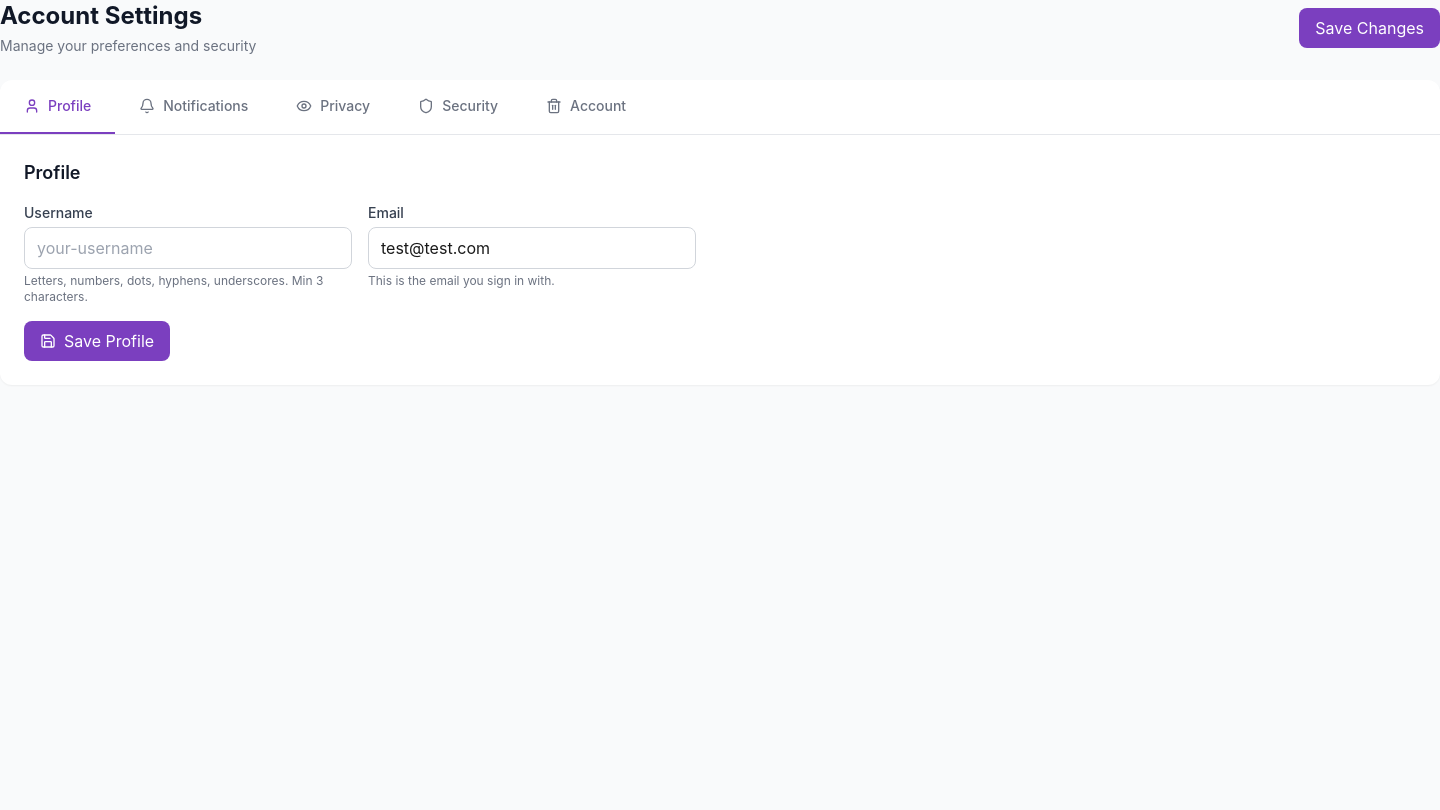
Test: Settings › closes delete modal when Cancel is clicked
The width and height of the screenshot is (1440, 810).
What coordinates should you click on to do the following:
click the button "Account"
I would click on:
 (586, 107)
Its box is [522,80,650,134].
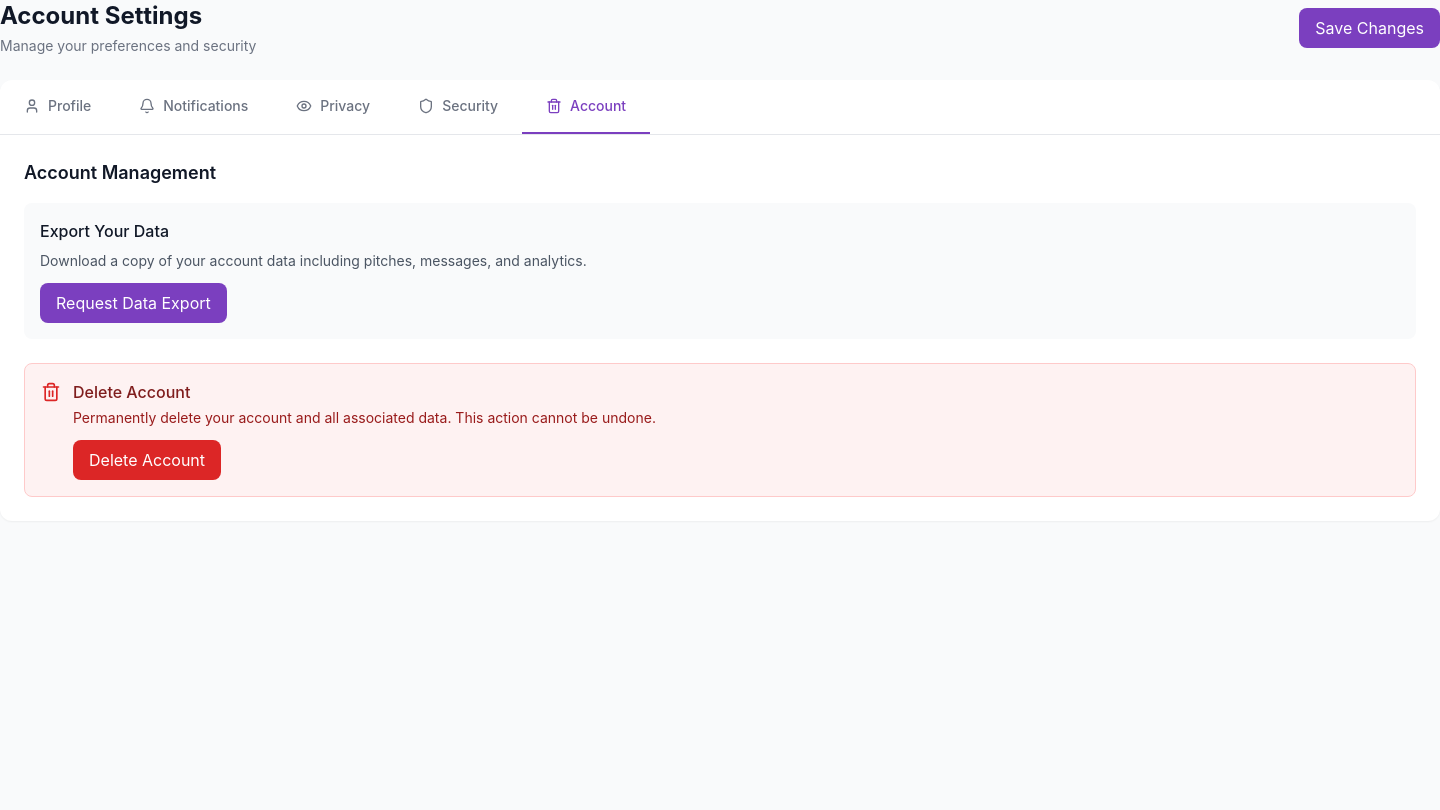
What coordinates should you click on to do the following:
click the button "Delete Account"
I would click on:
 (147, 460)
Its box is [73,440,221,480].
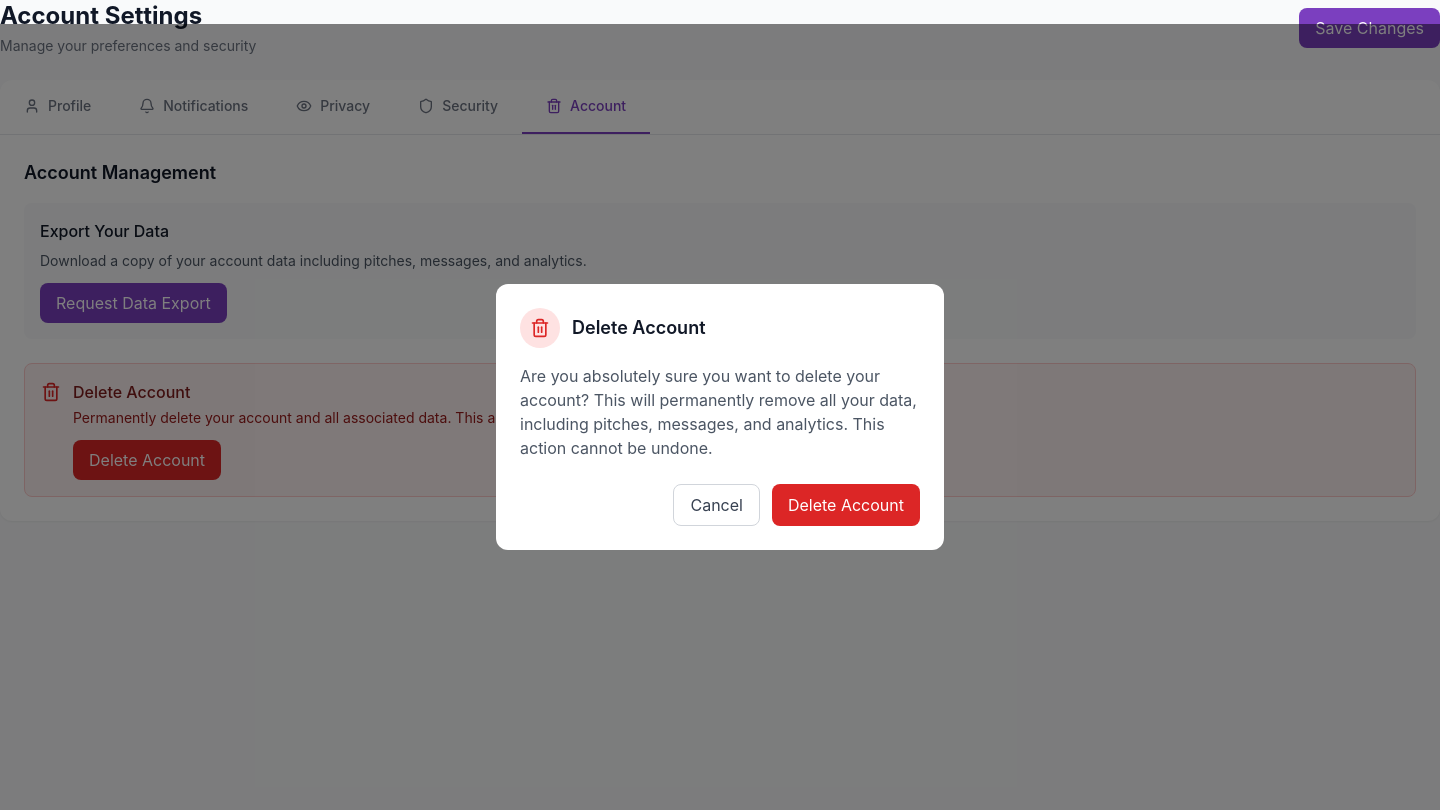
Result: the text "Are you absolutely sure" is shown at [520,366,917,458]
What coordinates should you click on to do the following:
click the button "Cancel"
I would click on:
 (717, 505)
Its box is [674,484,760,526].
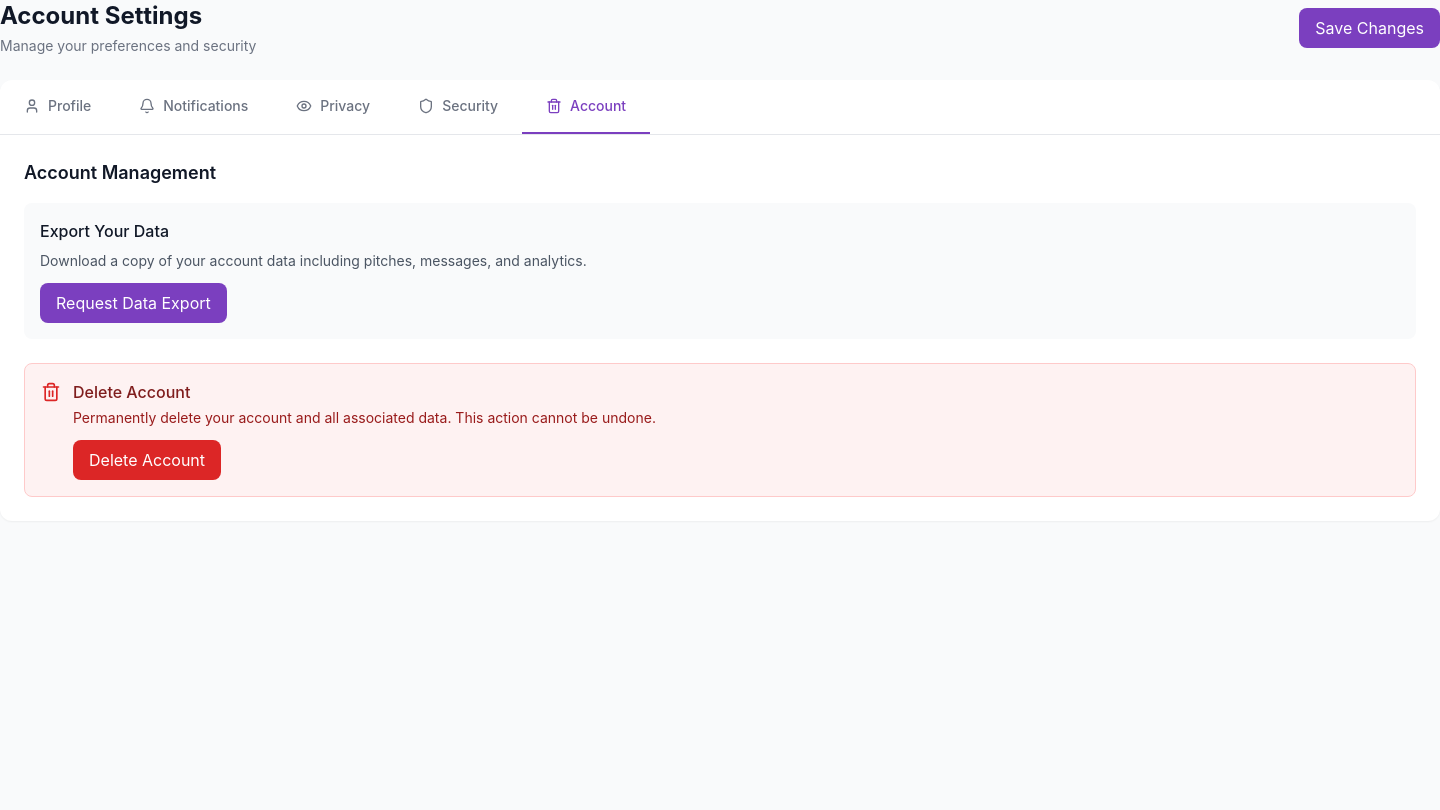
Result: the text "Are you absolutely sure" is gone
